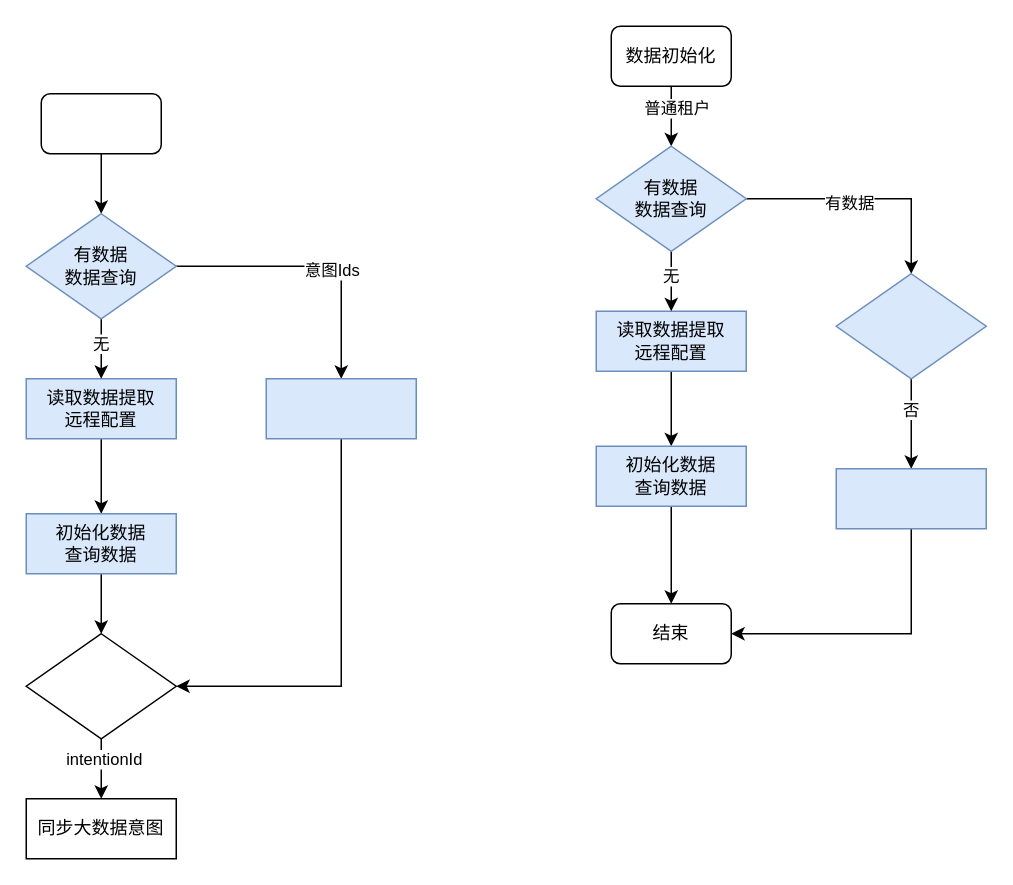
Image size: 1013x885. Some labels were removed from this diagram. The shapes that lost their labels are listed below. From the top down, each one's box as (x1, y1, x2, y2) in pixels, then its label:
(40, 92, 161, 154): 意图初始化
(835, 272, 986, 379): 是否自定义过
(265, 377, 416, 439): 根据IntentionId 更新数据查询
(835, 467, 986, 529): 更新数据 （场景、描述等）
(25, 632, 176, 739): 更新大数据
